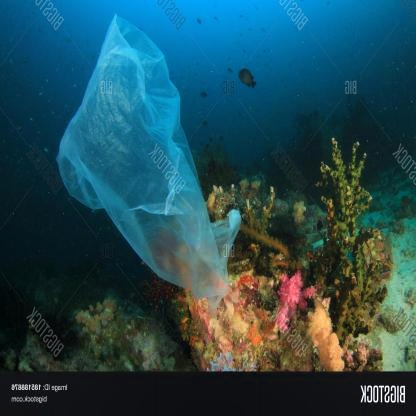pbag: (54, 13, 242, 313)
